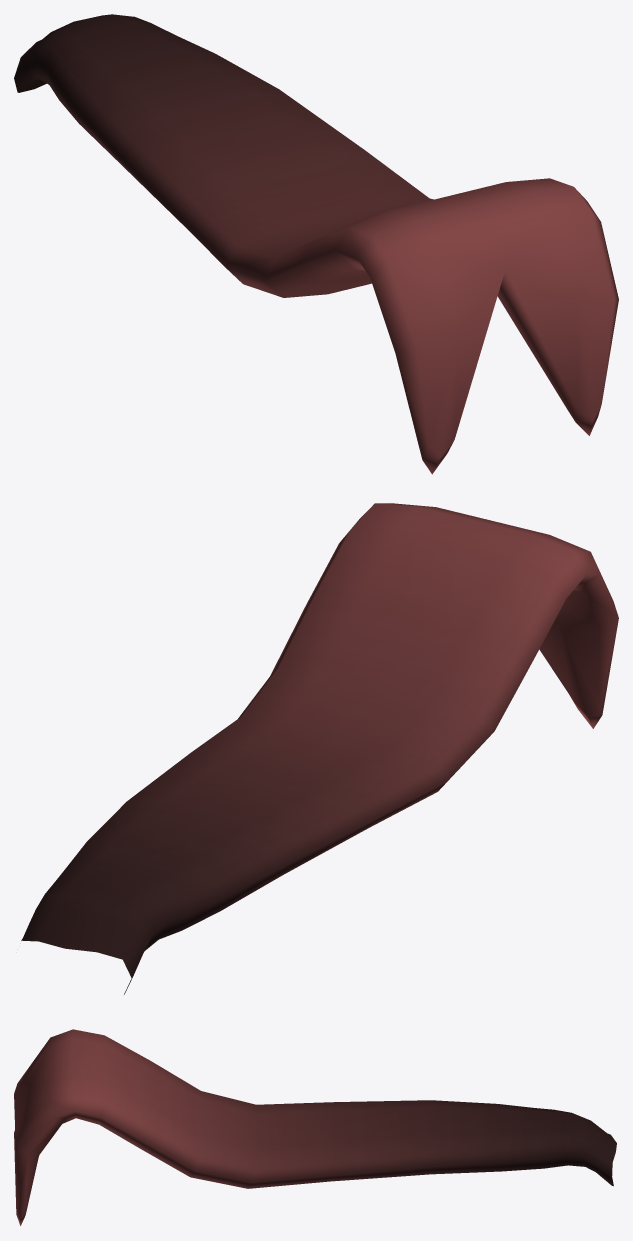
File: forked.glb
3 views of the same model, one above another, from view 1: azimuth 30°, elevation 25°; view 2: azimuth 150°, elevation 25°; view 3: azimuth 270°, elevation 25° (orthographic). The views are drawn at different scales.
Visible parts, largest first — view 1: cc_forked4; view 2: cc_forked4; view 3: cc_forked4.
Part boxes in pixels (x1=…): cc_forked4: x1=14, y1=14, x2=618, y2=474; cc_forked4: x1=21, y1=503, x2=618, y2=994; cc_forked4: x1=14, y1=1029, x2=616, y2=1225.
Size of the model in its own units: 0.0277 by 0.0253 by 0.0959.
1 material, 1 textured.
